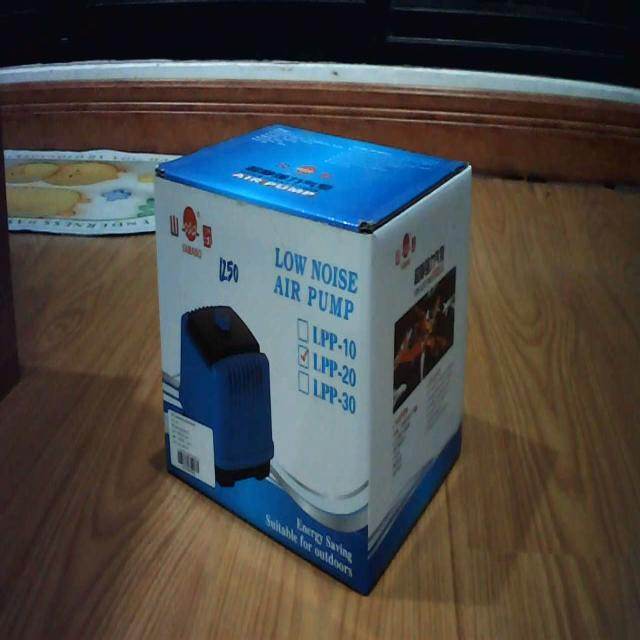YAMANO_LPP_20: (158, 114, 476, 591)
